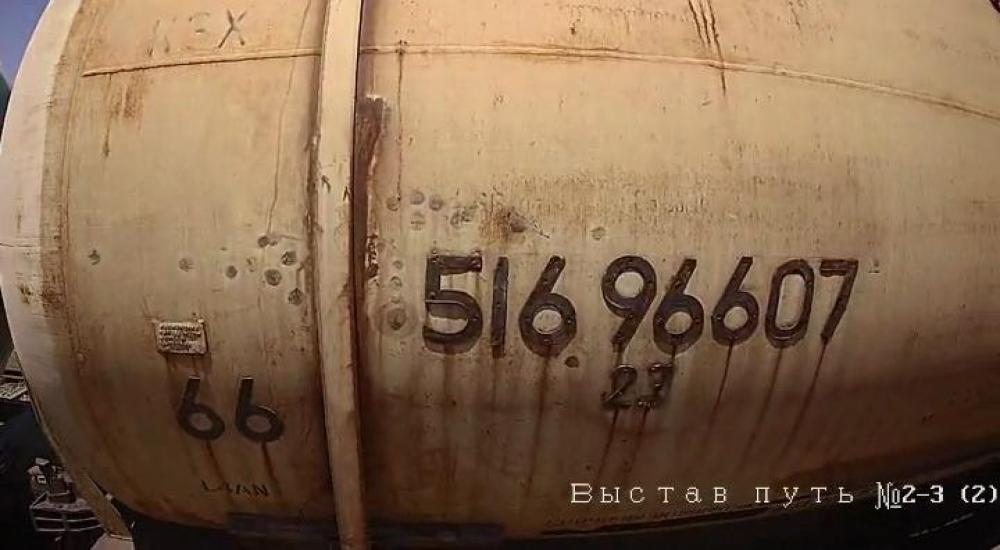Wagon-number: (416, 249, 865, 356)
